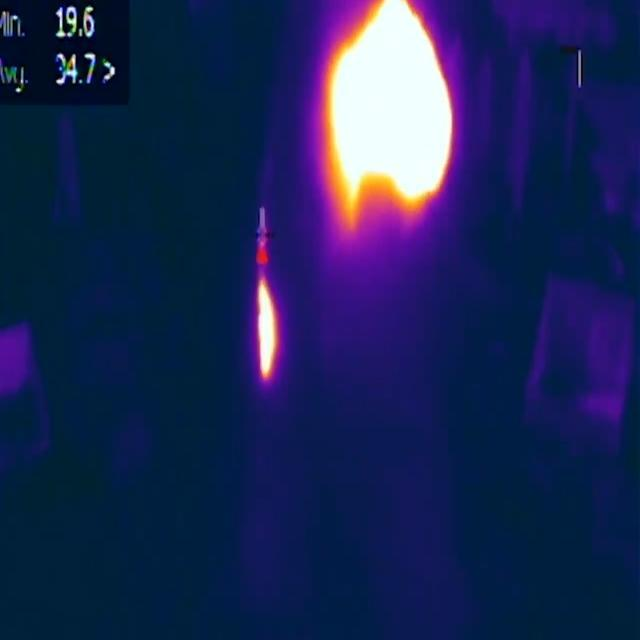fire: (327, 1, 458, 217), (257, 276, 282, 381)
